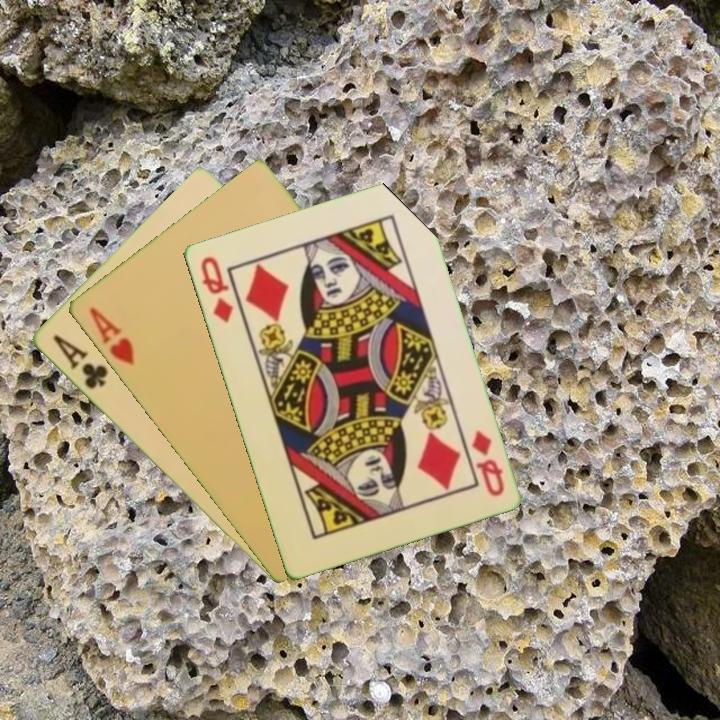Ac: (49, 331, 111, 392)
Ah: (85, 303, 137, 368)
Qd: (196, 252, 236, 326), (467, 426, 507, 499)
